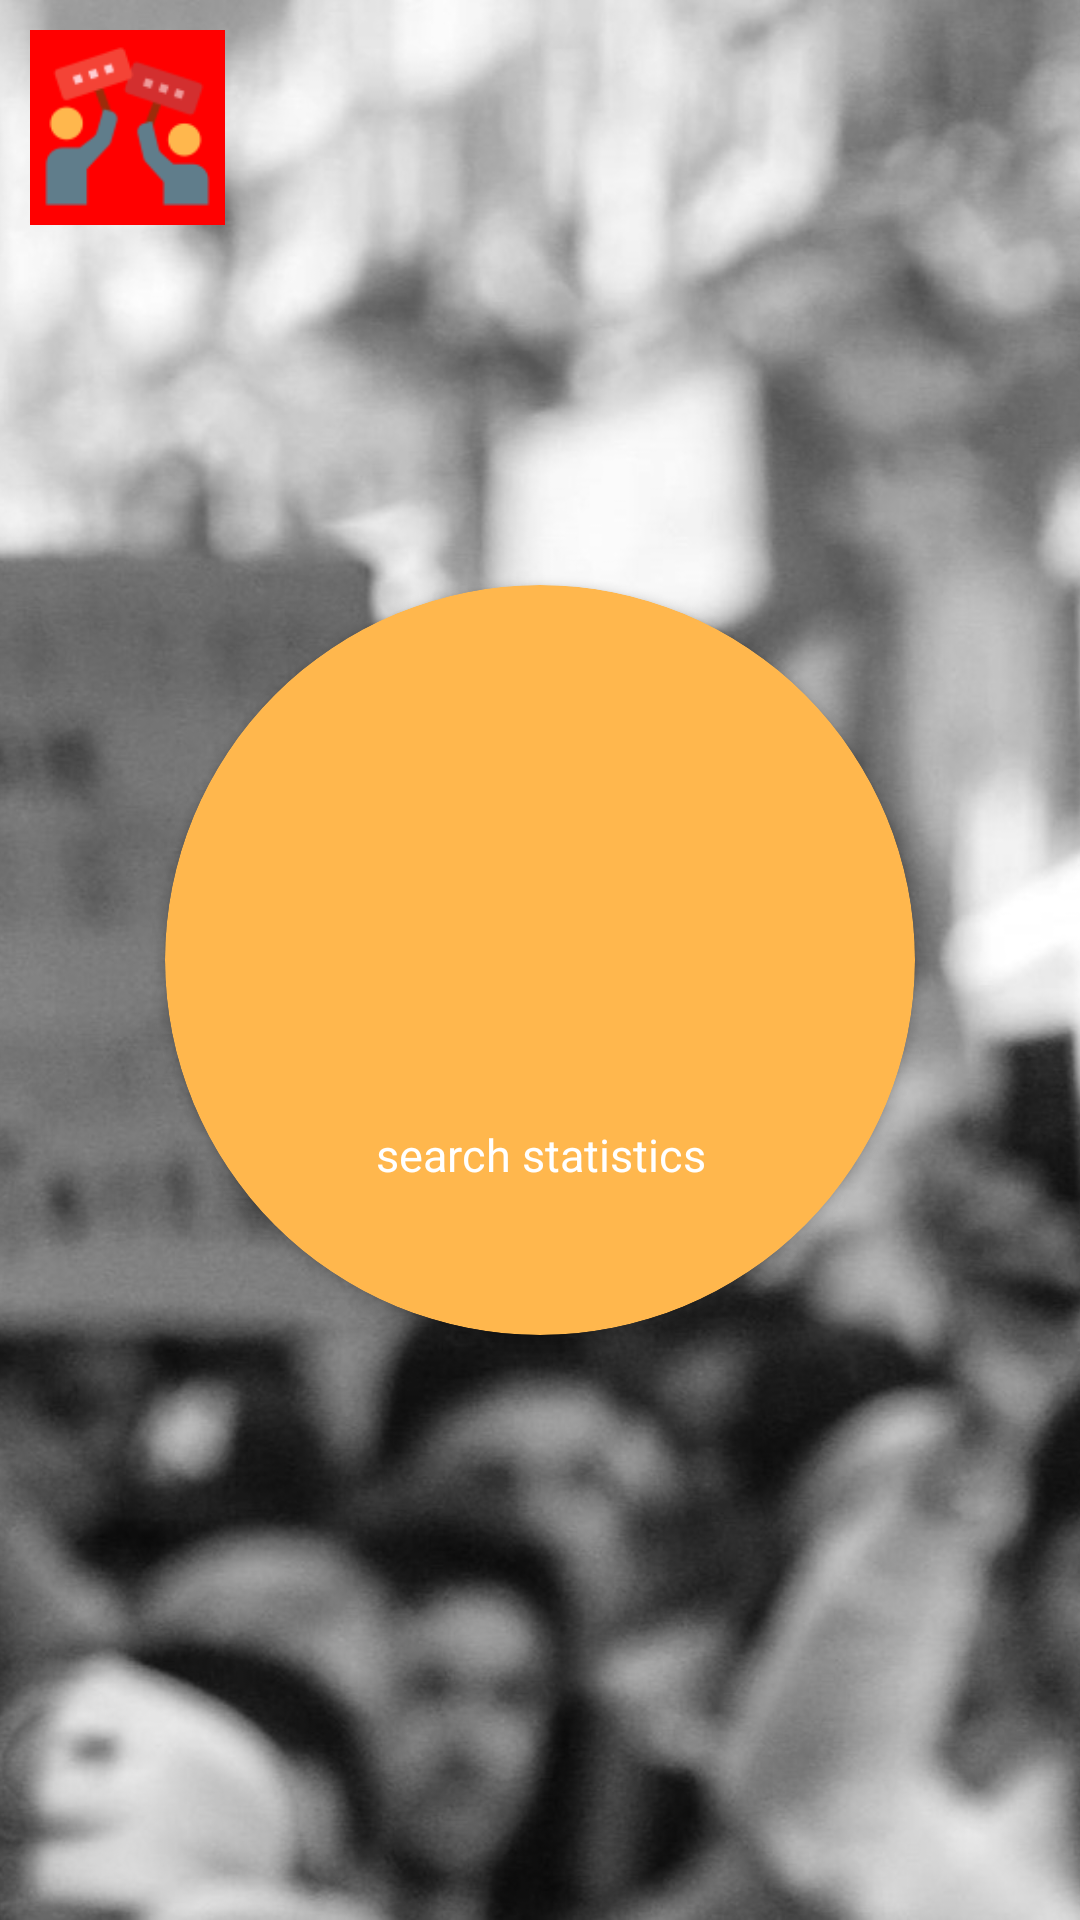

Icon click points for this 1080px×1920px phone screenshot, format (x=x, y=y):
protest: (x=127, y=127)
